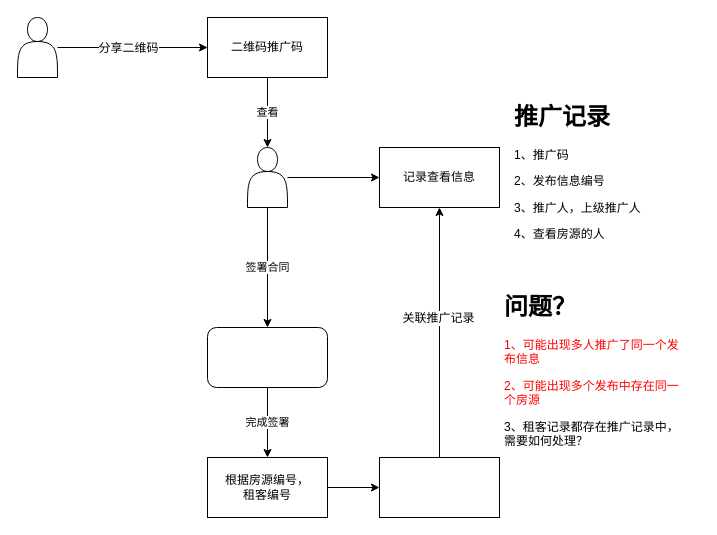
Some shapes in this 717 by 535 pixel diagram are drawn without their labels. The centre of each missing label's shape, as x and y in pixels:
按房源选择合同: the point at 267,357
获取发布信息: the point at 439,487
